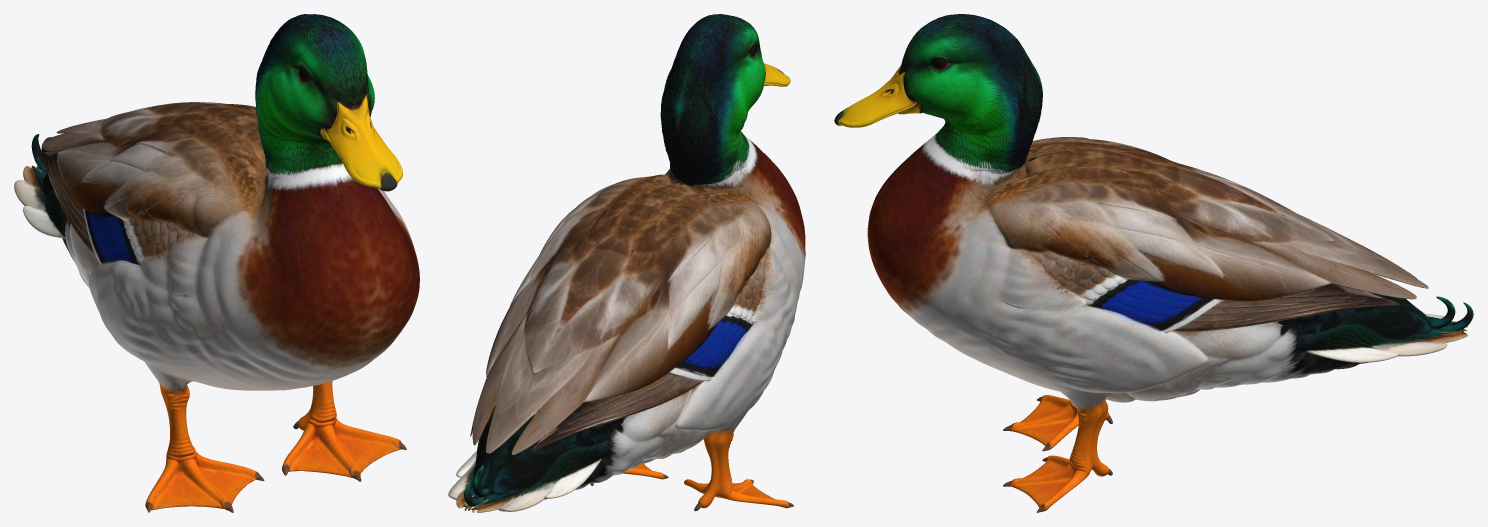
File: duck-light.glb
The picture shows the model from 3 angles, left to right: view 1: azimuth 30°, elevation 25°; view 2: azimuth 150°, elevation 25°; view 3: azimuth 270°, elevation 25°; orthographic projection. The views are drawn at different scales.
Visible parts, largest first — view 1: duck; view 2: duck; view 3: duck.
Boxes of the visible parts, x1,y1,x2,y2 form: duck: (14,14,419,512); duck: (448,14,805,512); duck: (834,14,1473,512).
Bounding box in the file's own units: 0.2504 × 0.4562 × 0.6.
Materials: 1 (1 with a texture image).
